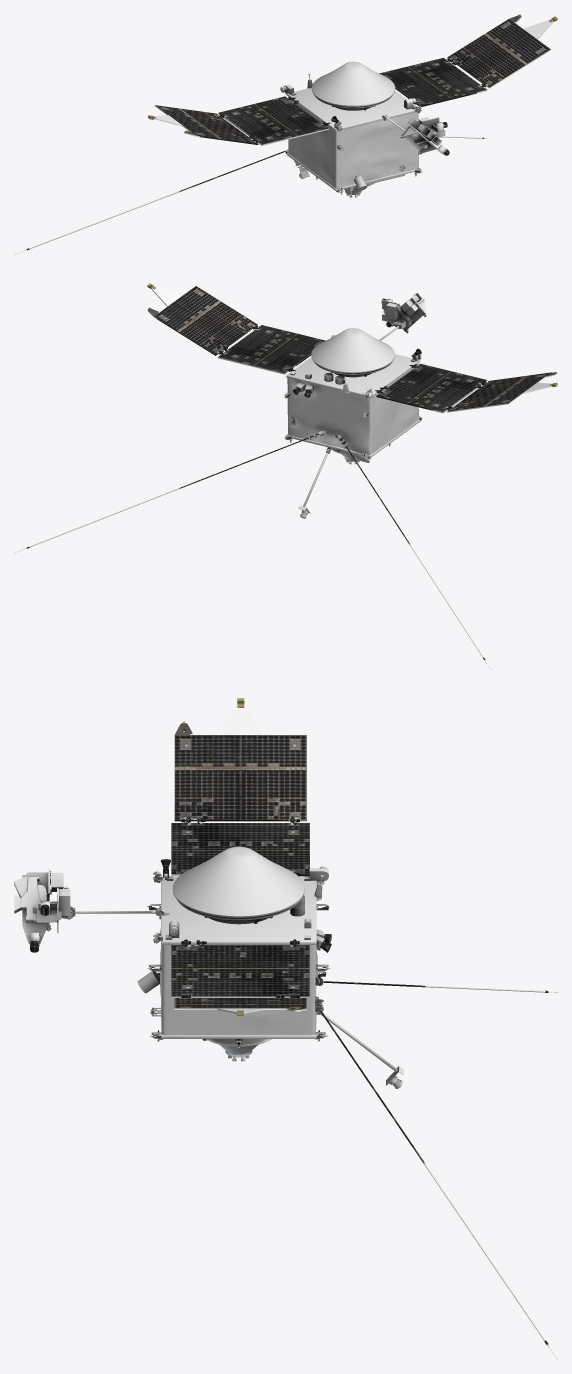
Rendered from maven.glb.
3 renders of one model, top to bottom at view 1: azimuth 30°, elevation 25°; view 2: azimuth 150°, elevation 25°; view 3: azimuth 270°, elevation 25°, orthographic. The views are drawn at different scales.
Parts seen in each view (by area): view 1: shiny_panel, BUS, parts, tex_01, dish_frame; view 2: shiny_panel, BUS, parts, tex_01; view 3: shiny_panel, BUS, parts, tex_01.
Part boxes in pixels (x1,y1,x2,y2): shiny_panel: (14,15,553,254); BUS: (286,61,446,190); parts: (148,14,557,197); tex_01: (154,19,552,197); dish_frame: (311,89,395,110); shiny_panel: (14,286,557,668); BUS: (286,298,419,506); parts: (147,283,557,518); tex_01: (152,286,552,464); shiny_panel: (30,724,557,1359); BUS: (30,846,397,1071); parts: (14,698,403,1088); tex_01: (207,705,271,1061).
Bounding box in the file's own units: 13.13 × 5.42 × 8.22.
Materials: 10 (8 with a texture image).
